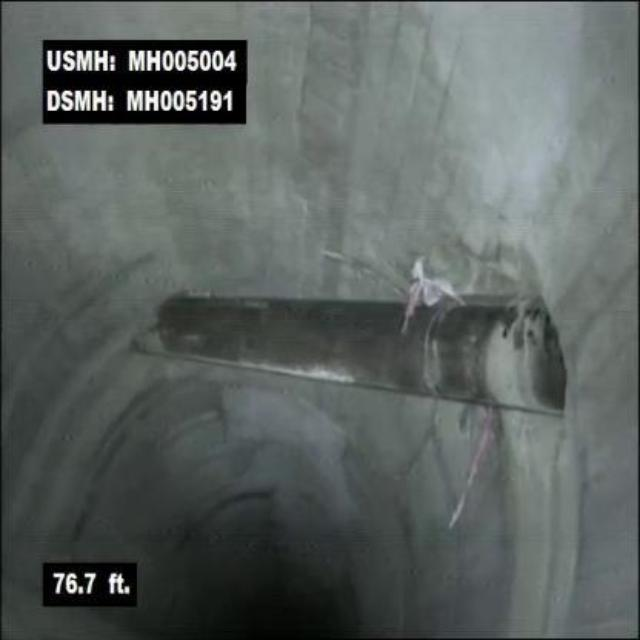Utility intrusion: (115, 266, 568, 438)
